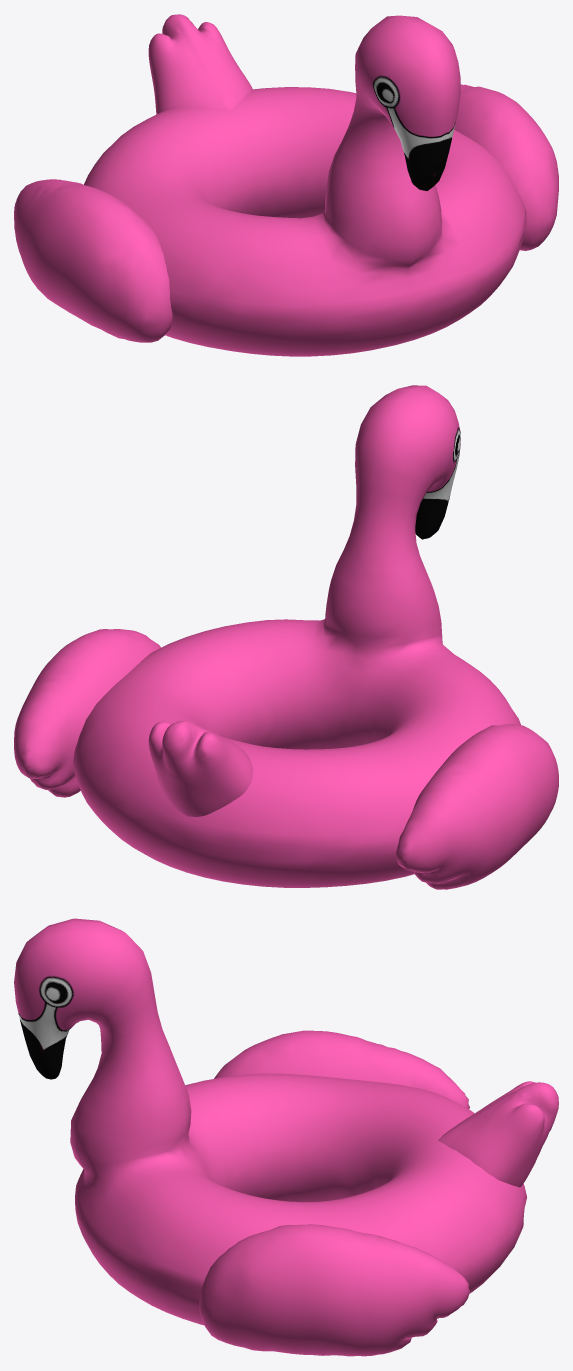
File: flamingo.gltf
3 views of the same model, one above another, from view 1: azimuth 30°, elevation 25°; view 2: azimuth 150°, elevation 25°; view 3: azimuth 270°, elevation 25° (orthographic).
Visible parts, largest first — view 1: Flamingo_Flamingo_0; view 2: Flamingo_Flamingo_0; view 3: Flamingo_Flamingo_0.
Boxes of the visible parts, box(x1,y1,x2,y2) form: Flamingo_Flamingo_0: box(14, 14, 558, 356); Flamingo_Flamingo_0: box(14, 385, 558, 889); Flamingo_Flamingo_0: box(14, 918, 558, 1356).
Size of the model in its own units: 5.08 by 3.43 by 4.91.
Materials: 1 (1 with a texture image).
